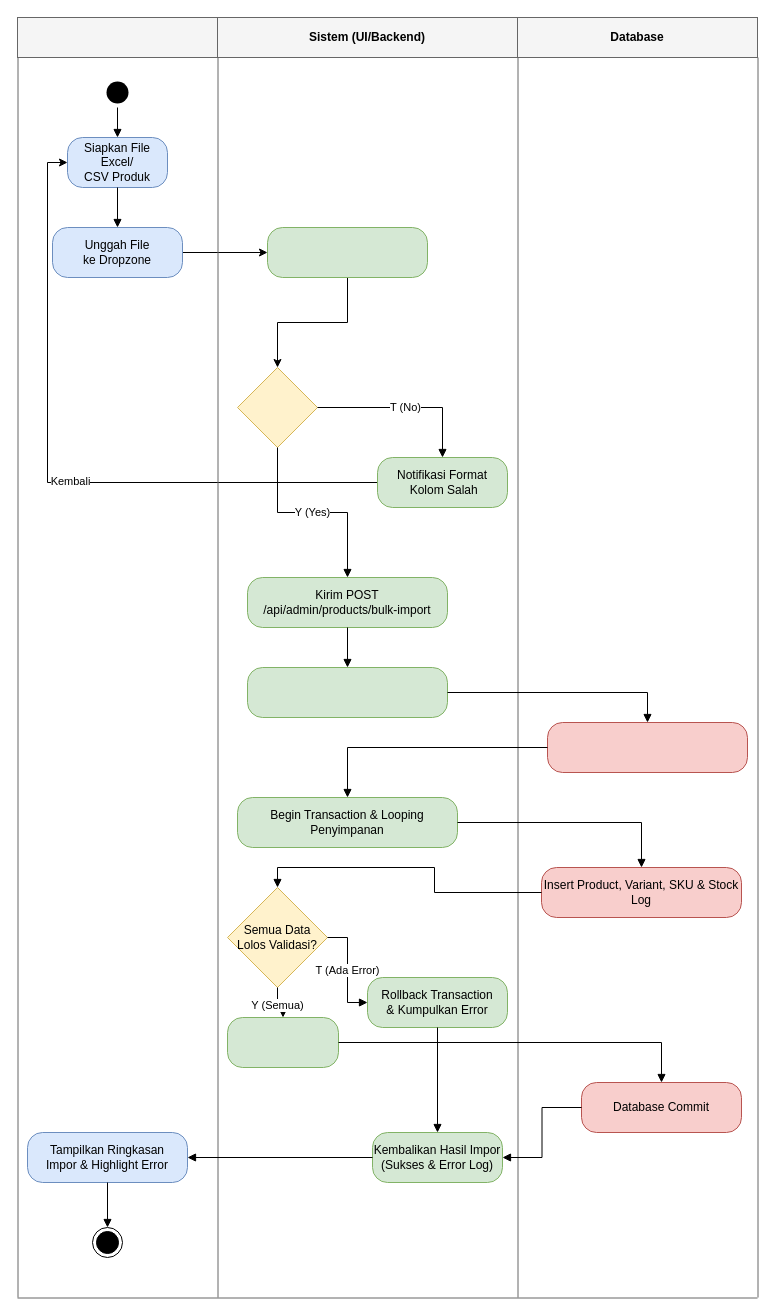
Image size: 776x1316. Some labels were removed from this diagram. Each missing label, with the centre of its shape:
Admin: the point at 117,37
Commit Transaction: the point at 282,1042
Format Kolom Sesuai?: the point at 277,407
Parsing Excel ke JSON Array: the point at 347,252
Query database Categories & Templates: the point at 647,747
Smart Lookup: Konversi Kategori ke ID: the point at 347,692
